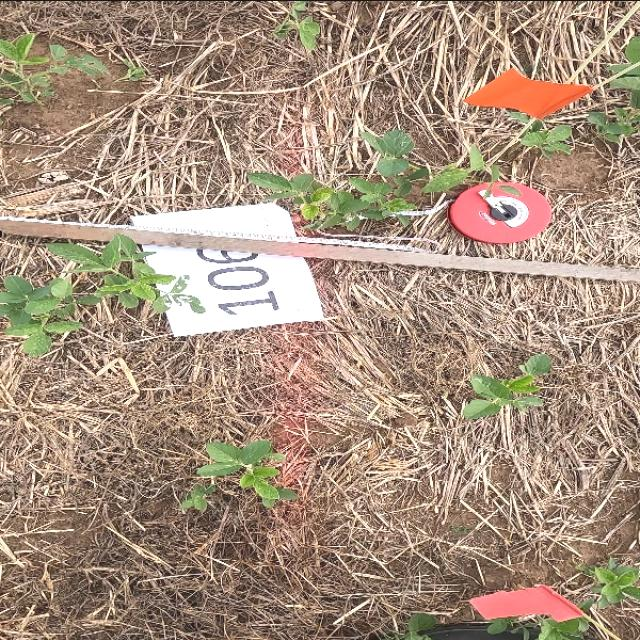soy_plant: (249, 129, 499, 230), (0, 234, 199, 355), (0, 32, 107, 100), (199, 440, 297, 506), (464, 352, 551, 419), (590, 36, 640, 140), (510, 111, 572, 156), (585, 561, 639, 605), (490, 616, 588, 640), (276, 0, 319, 50), (386, 614, 436, 640), (181, 484, 216, 509), (124, 60, 145, 79)
